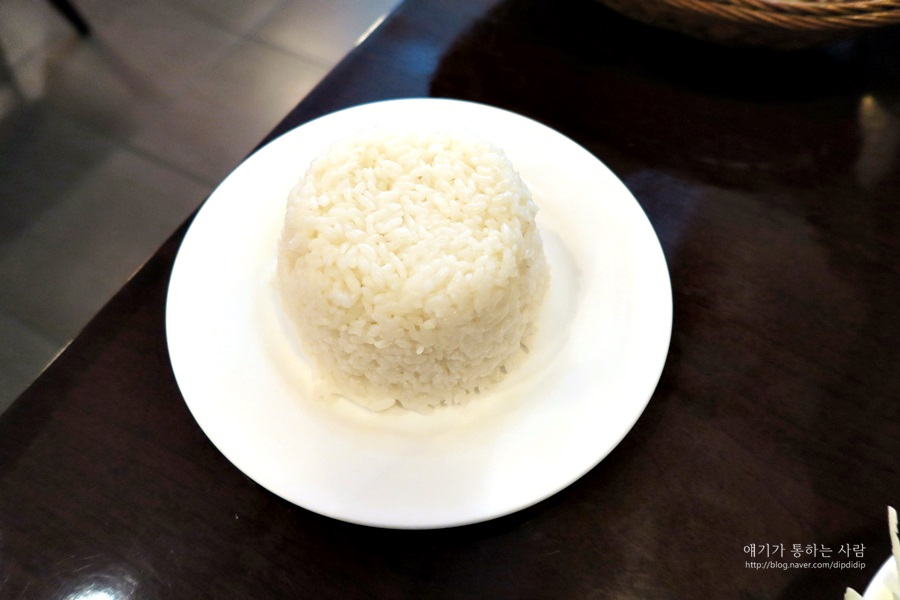plain rice: (294, 144, 545, 381)
